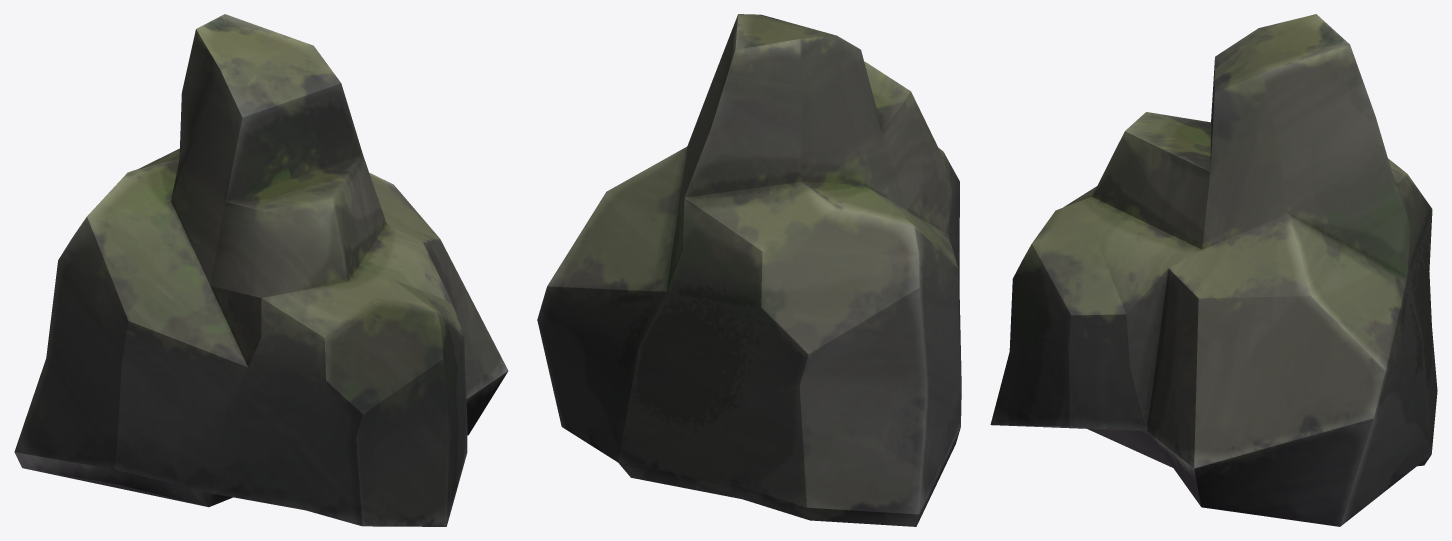
The model's file is Rock_2.gltf.
3 views of the same model, side by side, from view 1: azimuth 30°, elevation 25°; view 2: azimuth 150°, elevation 25°; view 3: azimuth 270°, elevation 25° (orthographic). The views are drawn at different scales.
Parts seen in each view (by area): view 1: Rock_2; view 2: Rock_2; view 3: Rock_2.
Part boxes in pixels (x1,y1,x2,y2): Rock_2: [14, 14, 508, 526]; Rock_2: [537, 14, 961, 526]; Rock_2: [990, 14, 1437, 526].
Size of the model in its own units: 2.11 by 2.25 by 2.15.
Materials: 1 (1 with a texture image).
